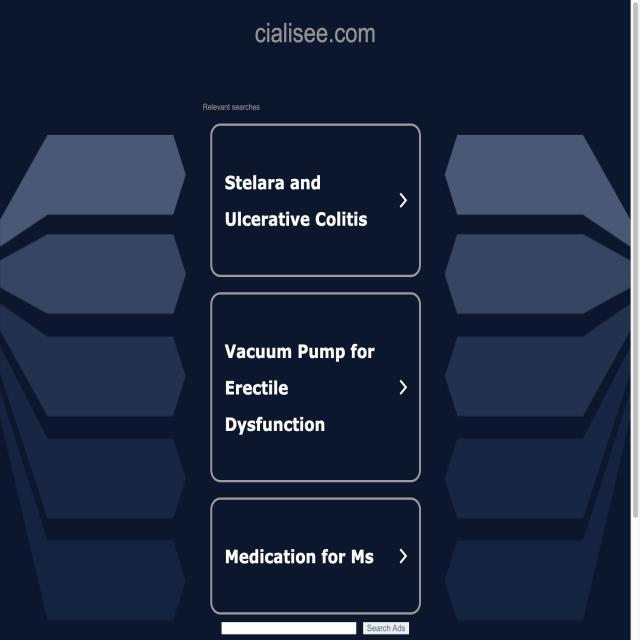button: (213, 293, 421, 482), (210, 124, 419, 274), (216, 497, 425, 608), (362, 620, 411, 634)
input field: (220, 619, 358, 638)
